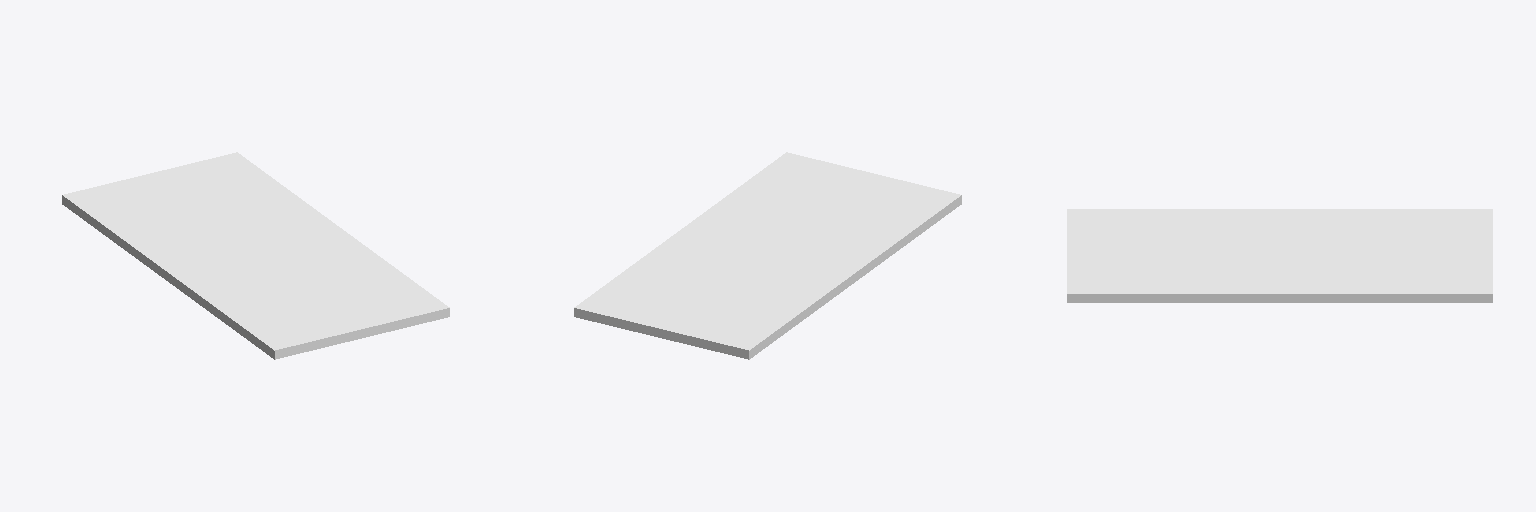
The model's file is BattleStage.obj.
3 renders of one model, left to right at view 1: azimuth 30°, elevation 25°; view 2: azimuth 150°, elevation 25°; view 3: azimuth 270°, elevation 25°, orthographic.
Parts seen in each view (by area): view 1: BattleStage; view 2: BattleStage; view 3: BattleStage.
Part boxes in pixels (left/top/right/bottom): BattleStage: left=62, top=152, right=449, bottom=359; BattleStage: left=574, top=152, right=961, bottom=359; BattleStage: left=1067, top=209, right=1492, bottom=302.
Bounding box in the file's own units: 6 × 0.3 × 12.6.